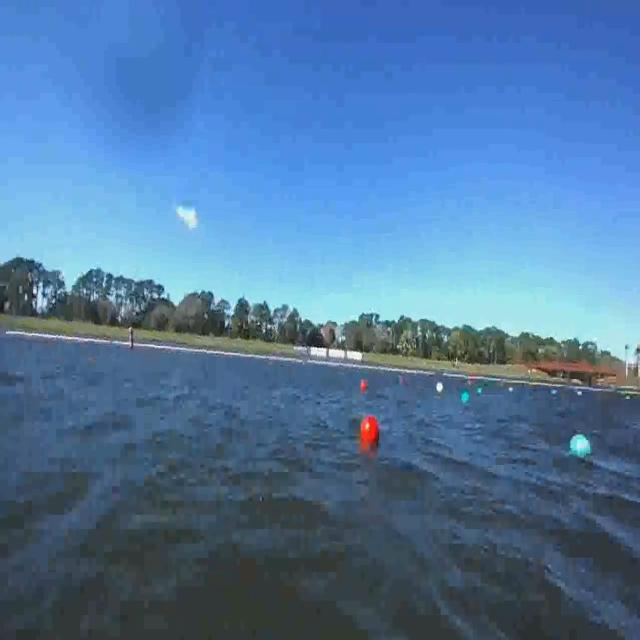green-buoy: (569, 435, 591, 458), (462, 391, 469, 403)
red-buoy: (361, 417, 377, 444), (361, 380, 367, 390)
yellow-buoy: (436, 380, 444, 393)
